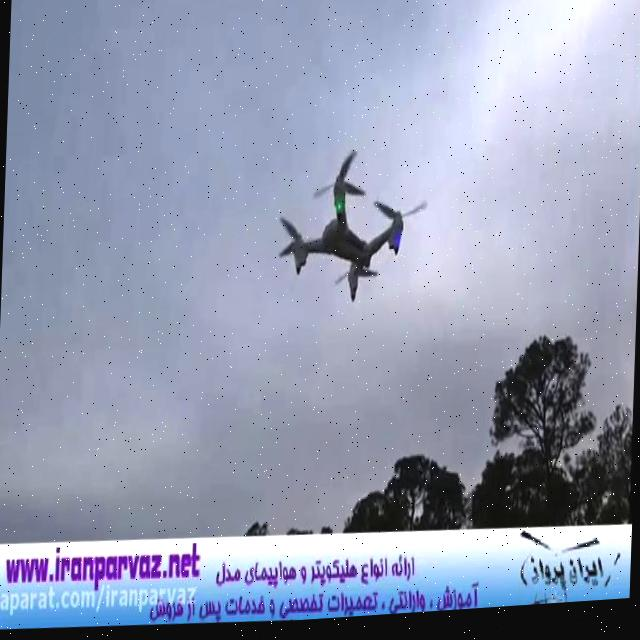drone: (273, 140, 432, 317)
